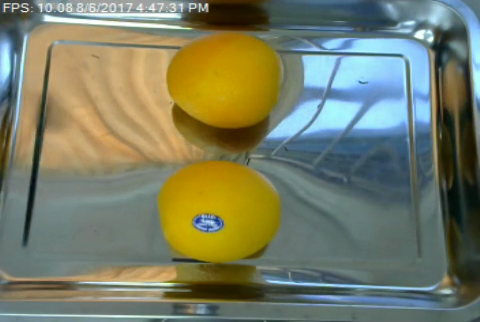Orange: (157, 161, 282, 261), (167, 32, 283, 130)
